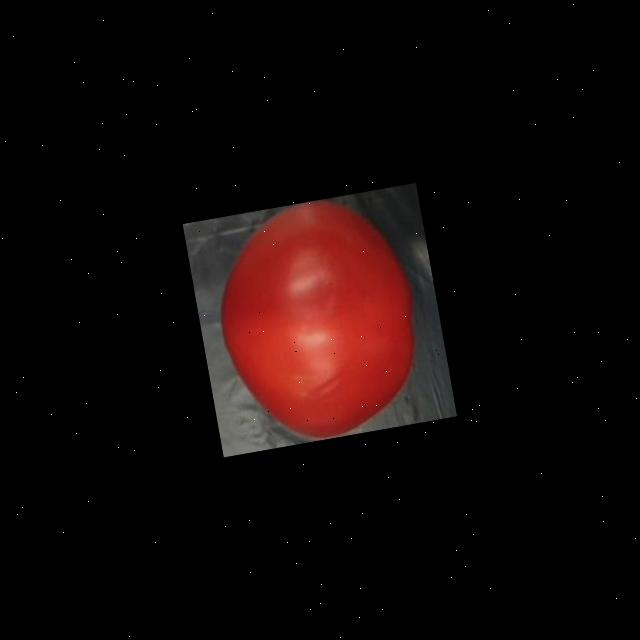tomato: (200, 188, 440, 454)
